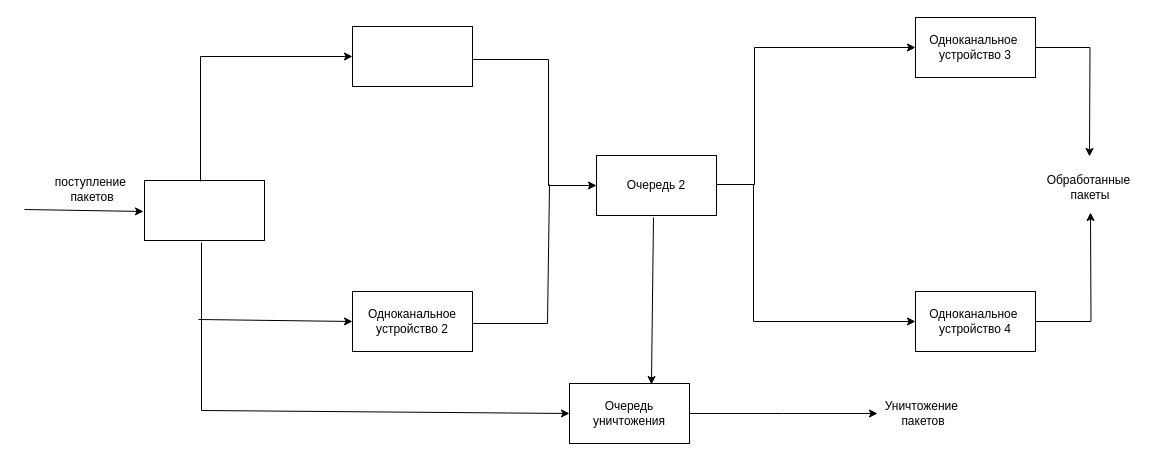
Image size: 1151x461. Some labels were removed from this diagram. The shapes that lost their labels are listed below. From the top down, each one's box as (x1, y1, x2, y2) in pixels, then its label:
(352, 26, 472, 86): Одноканальное устройство 1
(144, 180, 264, 240): Очередь 1
